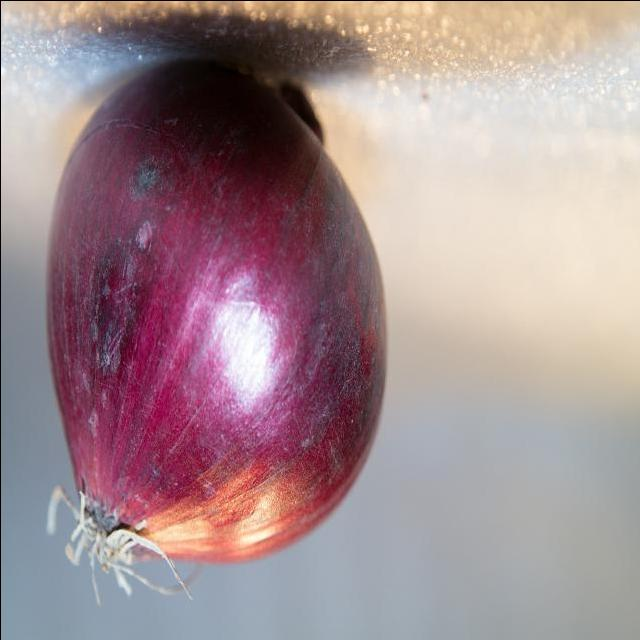onion: (43, 61, 389, 581)
